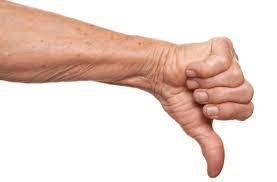Thumbs-Down: (149, 33, 255, 176)
